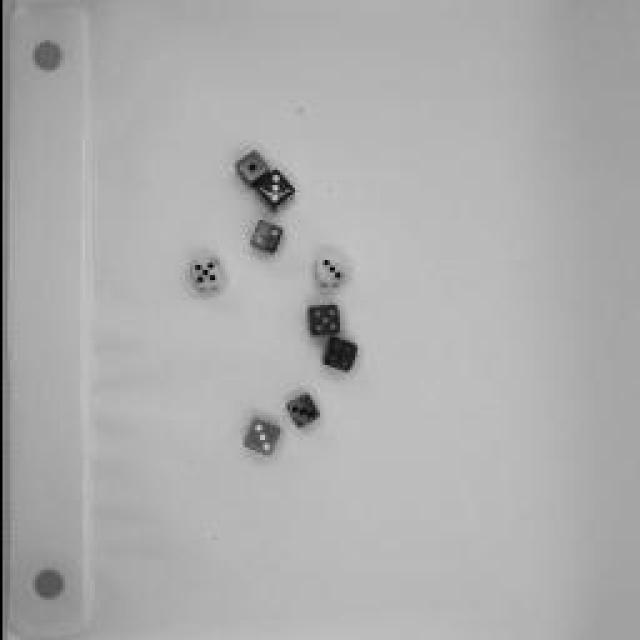dice_1: (229, 145, 269, 190)
dice_2: (242, 218, 282, 264)
dice_3: (248, 165, 298, 213), (302, 250, 352, 290), (240, 416, 278, 459), (281, 388, 319, 430)
dice_4: (321, 332, 354, 378)
dice_5: (299, 300, 341, 342), (185, 255, 223, 293)
